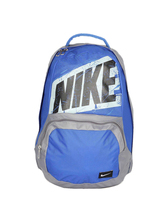bag: (30, 32, 140, 185)
